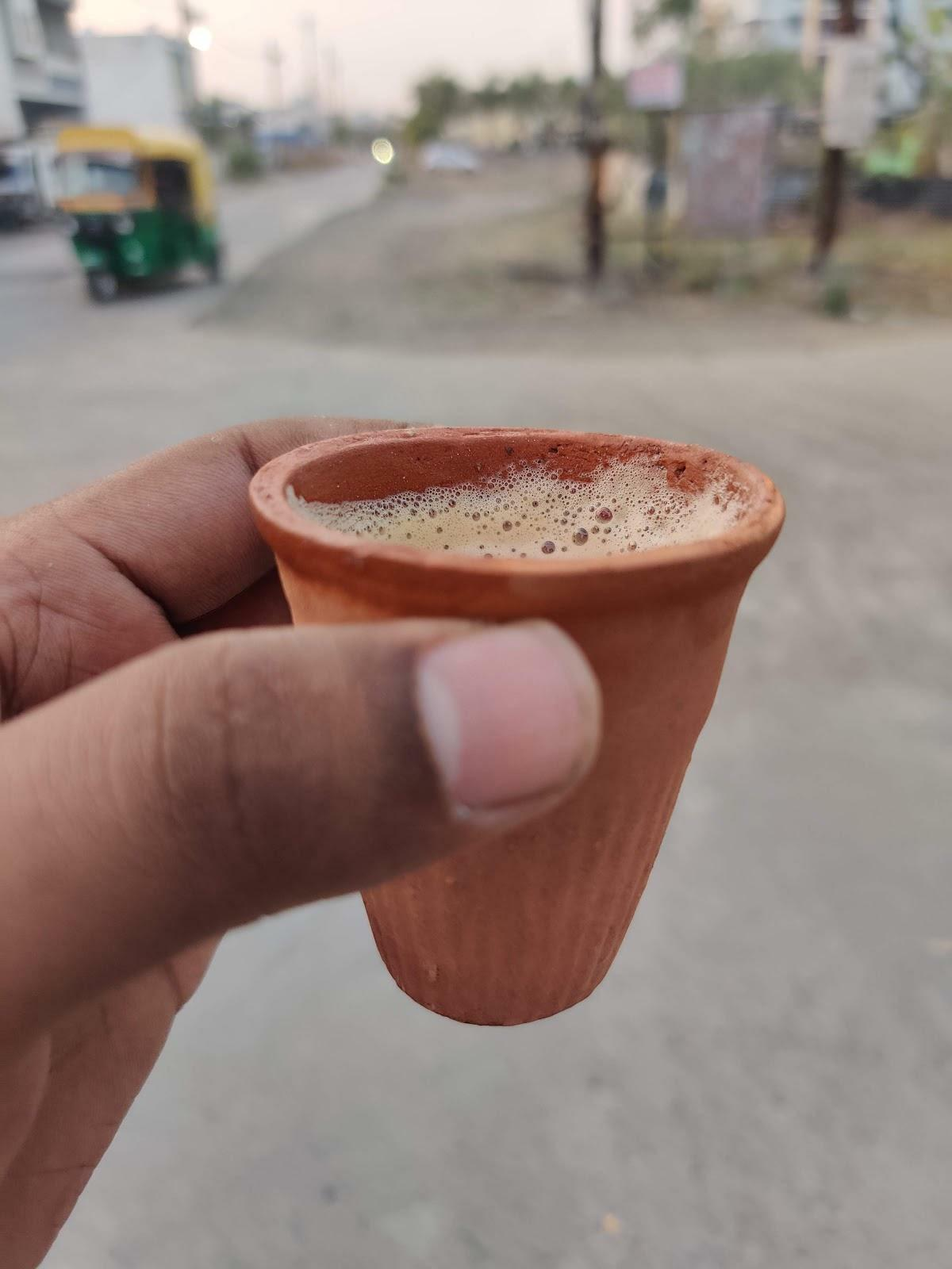Chai: (294, 461, 748, 557)
